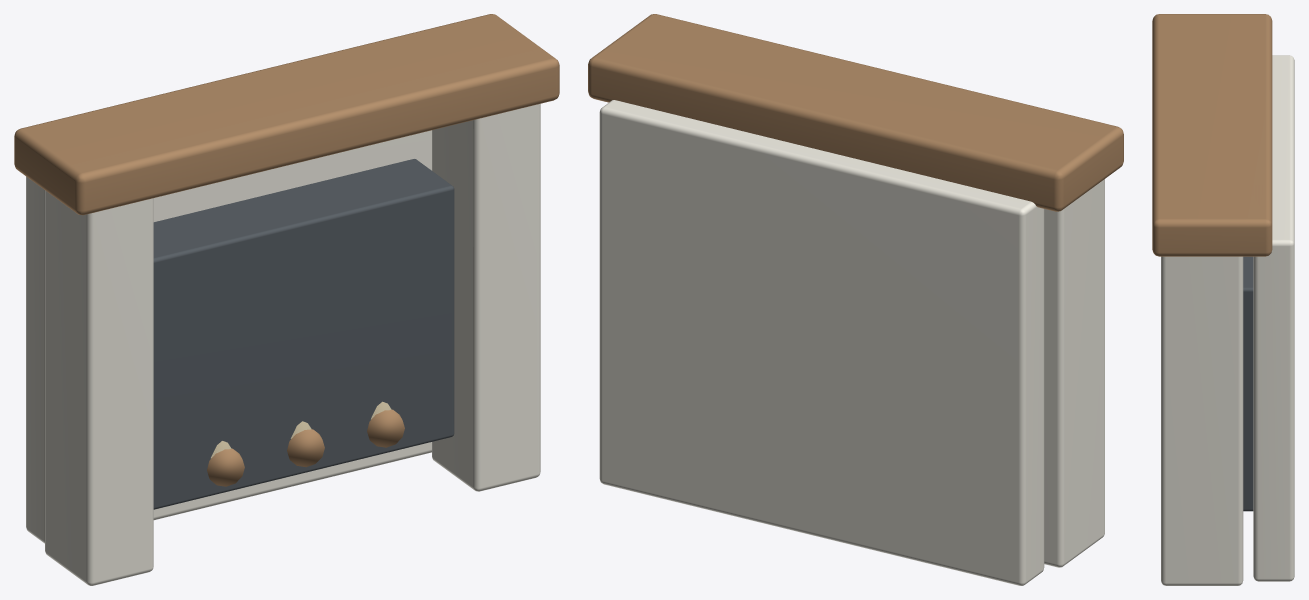
File: atelier-fireplace-surround.glb
3 renders of one model, left to right at view 1: azimuth 30°, elevation 25°; view 2: azimuth 150°, elevation 25°; view 3: azimuth 270°, elevation 25°, orthographic. The views are drawn at different scales.
Visible parts, largest first — view 1: ceramic.140, metal.188, legs.215; view 2: ceramic.140, legs.215; view 3: ceramic.140, legs.215, metal.188.
Part boxes in pixels (x1=…): ceramic.140: x1=26, y1=104, x2=540, y2=585; metal.188: x1=153, y1=159, x2=454, y2=509; legs.215: x1=14, y1=14, x2=559, y2=486; ceramic.140: x1=599, y1=100, x2=1104, y2=585; legs.215: x1=588, y1=14, x2=1123, y2=211; ceramic.140: x1=1161, y1=55, x2=1294, y2=585; legs.215: x1=1152, y1=14, x2=1272, y2=256; metal.188: x1=1243, y1=256, x2=1253, y2=511.
Size of the model in its own units: 1.45 by 1.2 by 0.415.
